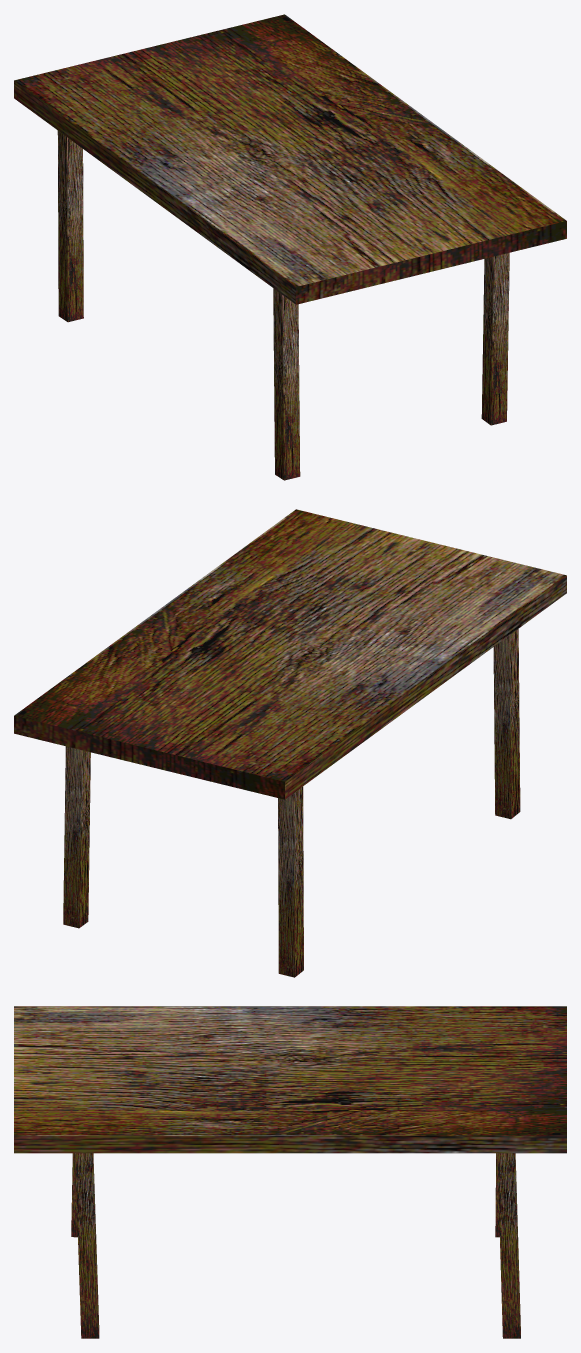
File: Table.fbx
The picture shows the model from 3 angles, top to bottom: view 1: azimuth 30°, elevation 25°; view 2: azimuth 150°, elevation 25°; view 3: azimuth 270°, elevation 25°; orthographic projection. The views are drawn at different scales.
Parts seen in each view (by area): view 1: Cube; view 2: Cube; view 3: Cube.
Part boxes in pixels (box(x1,y1,x2,y2)): Cube: box(14, 14, 566, 480); Cube: box(14, 509, 566, 977); Cube: box(14, 1006, 566, 1338).
Bounding box in the file's own units: 142 × 110 × 256.
1 material, 1 textured.
